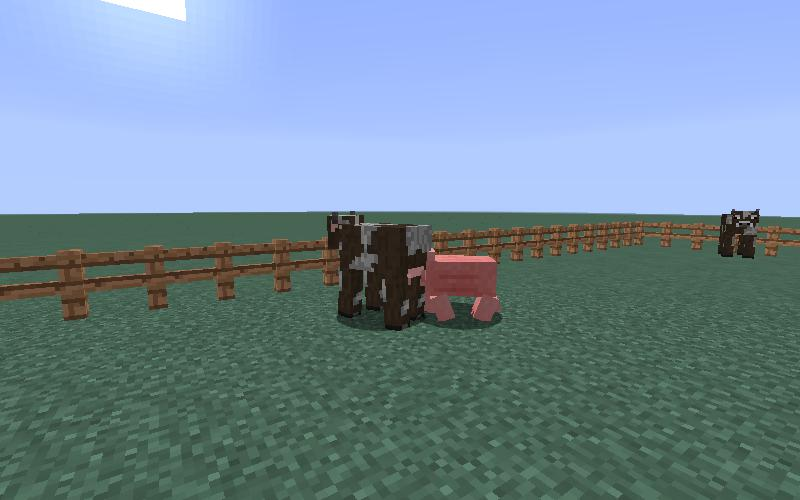cow: (322, 208, 435, 333), (715, 207, 762, 262)
pig: (427, 254, 501, 324)
